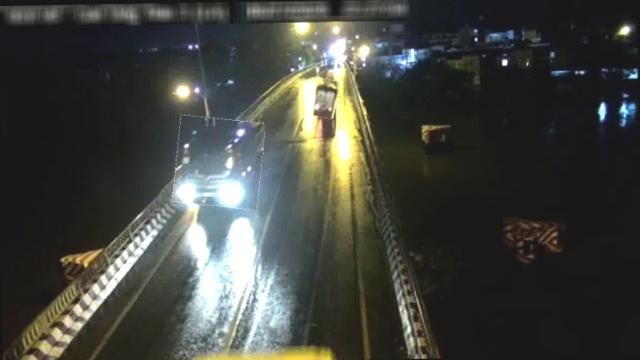Truck: (174, 114, 266, 209), (310, 78, 340, 118)
